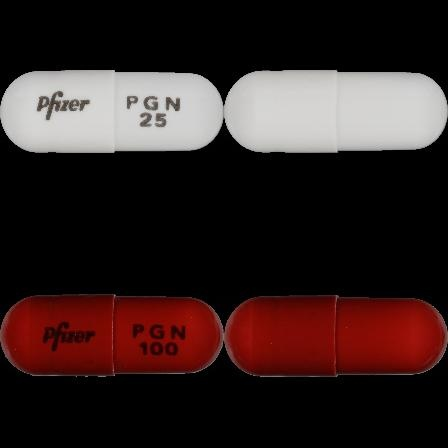50436-6525: (0, 0, 224, 224)
